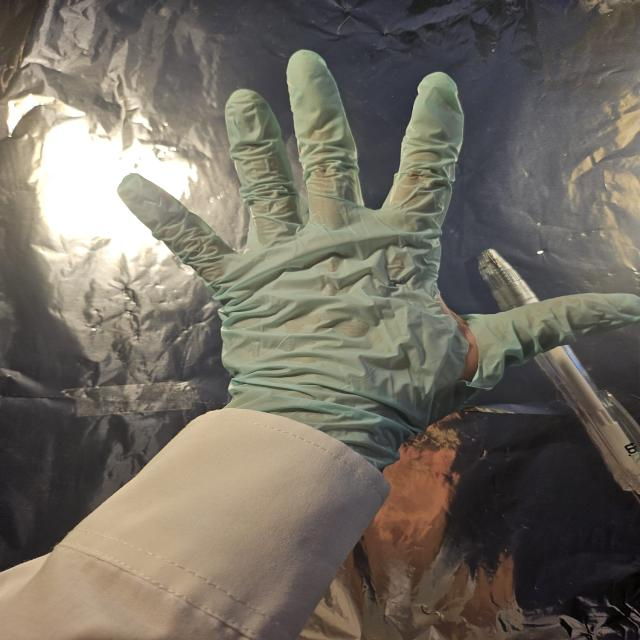gloves_damaged: (114, 48, 640, 476)
